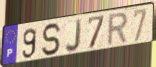7: (87, 14, 106, 50), (132, 8, 150, 43)
9: (21, 27, 38, 59)
J: (64, 18, 83, 54)
R: (106, 11, 130, 49)
S: (41, 22, 63, 58)
